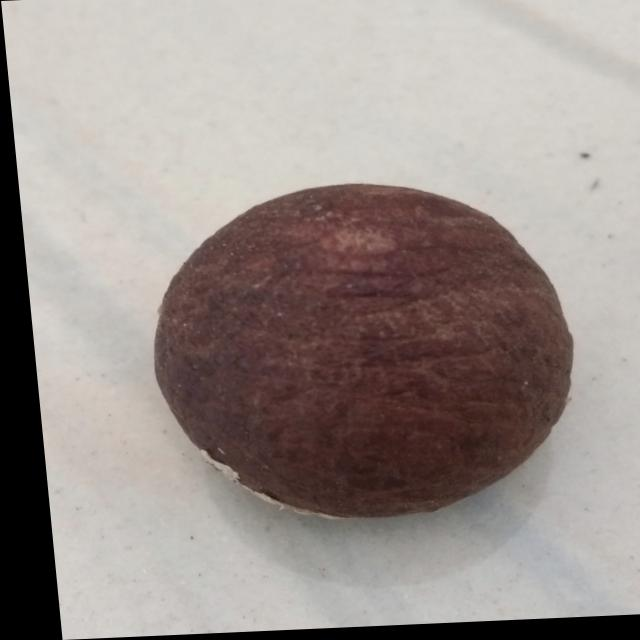karigot: (87, 157, 591, 564)
